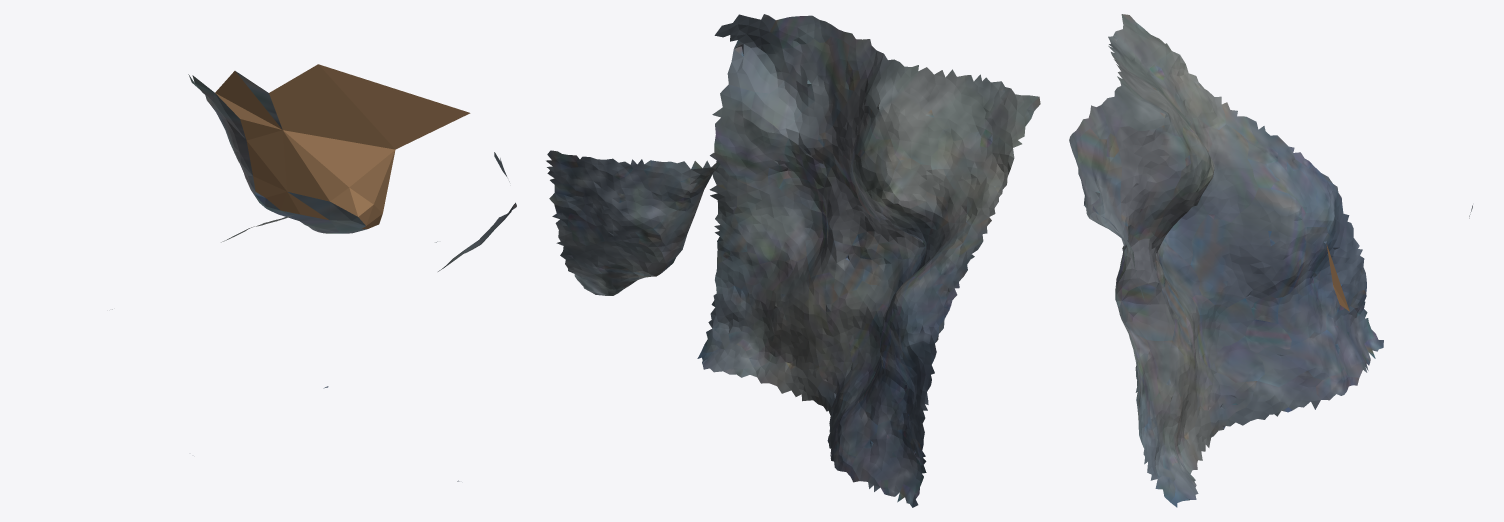
Rendered from tile_0721.gltf.
3 renders of one model, left to right at view 1: azimuth 30°, elevation 25°; view 2: azimuth 150°, elevation 25°; view 3: azimuth 270°, elevation 25°, orthographic. The views are drawn at different scales.
Visible parts, largest first — view 1: defaultobject; view 2: defaultobject; view 3: defaultobject.
Part boxes in pixels (x1,y1,x2,y2): defaultobject: [112, 64, 516, 481]; defaultobject: [546, 14, 1040, 507]; defaultobject: [1069, 14, 1472, 507].
Bounding box in the file's own units: 0.2374 × 0.2409 × 0.2503.
Materials: 1 (1 with a texture image).
